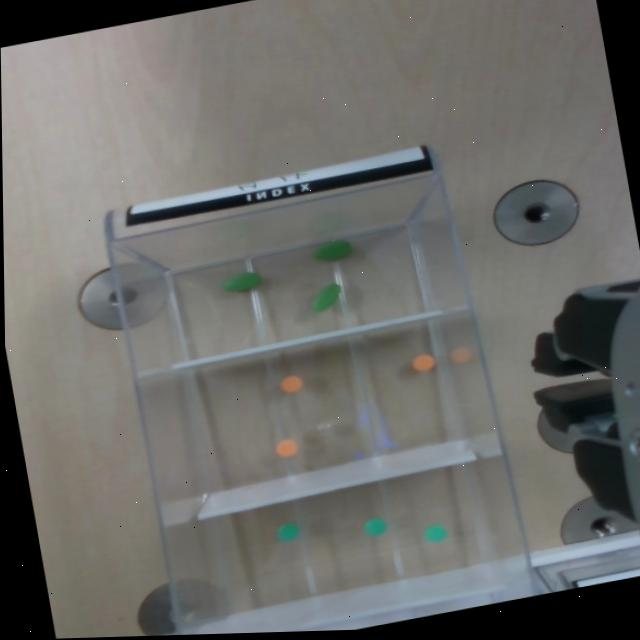famodine: (361, 515, 387, 537), (275, 521, 300, 543), (423, 523, 448, 544)
otillen_tab: (308, 282, 345, 313), (311, 237, 352, 262), (219, 270, 261, 293), (312, 282, 341, 311), (222, 270, 262, 291), (312, 239, 352, 260)
samsung_octylonium_tab: (274, 437, 299, 458), (279, 374, 304, 394), (412, 352, 437, 372)
